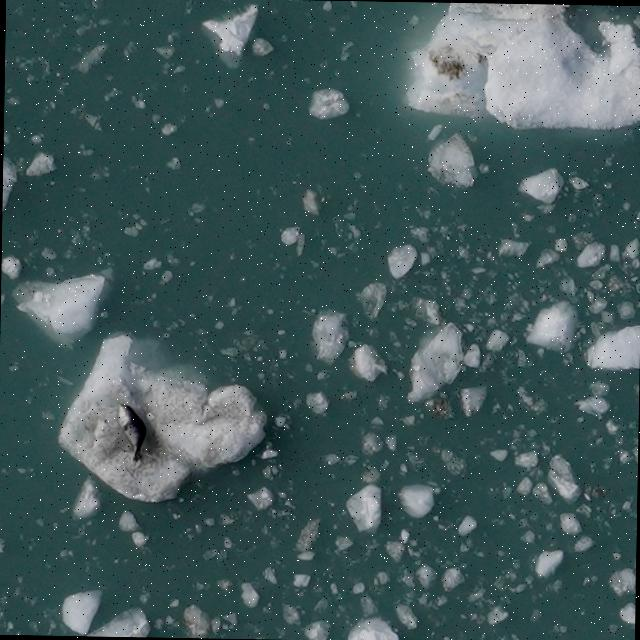seal: (113, 399, 148, 466)
